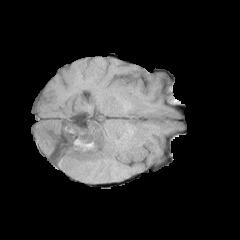glioma: (38, 118, 147, 177)
